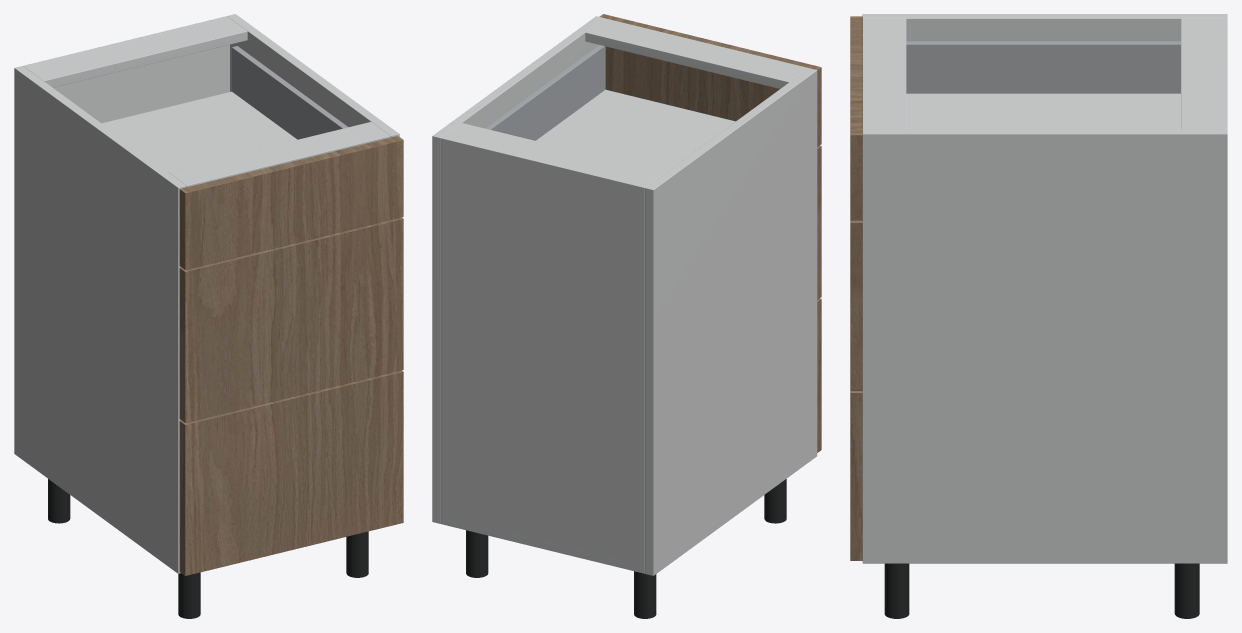
Rendered from oppein-ply-mnw-3db18.glb.
The picture shows the model from 3 angles, left to right: view 1: azimuth 30°, elevation 25°; view 2: azimuth 150°, elevation 25°; view 3: azimuth 270°, elevation 25°; orthographic projection. The views are drawn at different scales.
Visible parts, largest first — view 1: Cabinet side, Drawer front.001, Drawer front, Drawer front.002, Drawer floor.002, Cabinet back, Top support rail, Drawer side.005, Top support rail.001, Cabinet side.001, Adjustable foot.001, Adjustable foot.003 (+1 smaller); view 2: Cabinet back, Cabinet side, Drawer floor.002, Drawer front.002, Cabinet side.001, Top support rail.001, Drawer side.005, Top support rail, Cabinet bottom, Adjustable foot, Adjustable foot.002, Adjustable foot.001 (+2 smaller); view 3: Cabinet side.001, Drawer side.004, Drawer floor.002, Cabinet side, Top support rail.001, Top support rail, Drawer front.002, Drawer front.001, Drawer front, Adjustable foot.002, Adjustable foot.003, Cabinet back.
Part boxes in pixels (x1=…): Cabinet side: x1=14, y1=66, x2=186, y2=573; Drawer front.001: x1=179, y1=217, x2=403, y2=422; Drawer front: x1=179, y1=370, x2=403, y2=575; Drawer front.002: x1=179, y1=136, x2=403, y2=269; Drawer floor.002: x1=102, y1=91, x2=297, y2=171; Cabinet back: x1=23, y1=16, x2=229, y2=123; Top support rail: x1=25, y1=18, x2=247, y2=87; Drawer side.005: x1=232, y1=46, x2=348, y2=139; Top support rail.001: x1=167, y1=122, x2=390, y2=187; Cabinet side.001: x1=227, y1=14, x2=399, y2=137; Adjustable foot.001: x1=178, y1=572, x2=200, y2=618; Adjustable foot.003: x1=346, y1=531, x2=368, y2=577; Cabinet back: x1=441, y1=136, x2=647, y2=573; Cabinet side: x1=645, y1=68, x2=817, y2=575; Drawer floor.002: x1=536, y1=89, x2=735, y2=172; Drawer front.002: x1=599, y1=14, x2=821, y2=146; Cabinet side.001: x1=432, y1=16, x2=604, y2=523; Top support rail.001: x1=585, y1=18, x2=808, y2=88; Drawer side.005: x1=485, y1=45, x2=605, y2=140; Top support rail: x1=444, y1=123, x2=665, y2=185; Cabinet bottom: x1=441, y1=517, x2=644, y2=573; Adjustable foot: x1=634, y1=571, x2=656, y2=618; Adjustable foot.002: x1=466, y1=530, x2=488, y2=577; Adjustable foot.001: x1=764, y1=479, x2=786, y2=523; Cabinet side.001: x1=862, y1=129, x2=1227, y2=563; Drawer side.004: x1=906, y1=41, x2=1180, y2=93; Drawer floor.002: x1=906, y1=93, x2=1180, y2=129; Cabinet side: x1=862, y1=14, x2=1227, y2=41; Top support rail.001: x1=862, y1=18, x2=906, y2=129; Top support rail: x1=1181, y1=18, x2=1220, y2=129; Drawer front.002: x1=850, y1=16, x2=862, y2=220; Drawer front.001: x1=850, y1=220, x2=862, y2=390; Drawer front: x1=850, y1=391, x2=862, y2=560; Adjustable foot.002: x1=1174, y1=563, x2=1199, y2=618; Adjustable foot.003: x1=884, y1=563, x2=909, y2=618; Cabinet back: x1=1220, y1=18, x2=1227, y2=129.
Size of the model in its own units: 0.4572 by 0.8763 by 0.6064.
4 materials, 1 textured.
